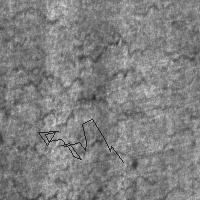crazing: (1, 4, 103, 177), (41, 15, 184, 94), (54, 91, 178, 169), (38, 119, 123, 162)
